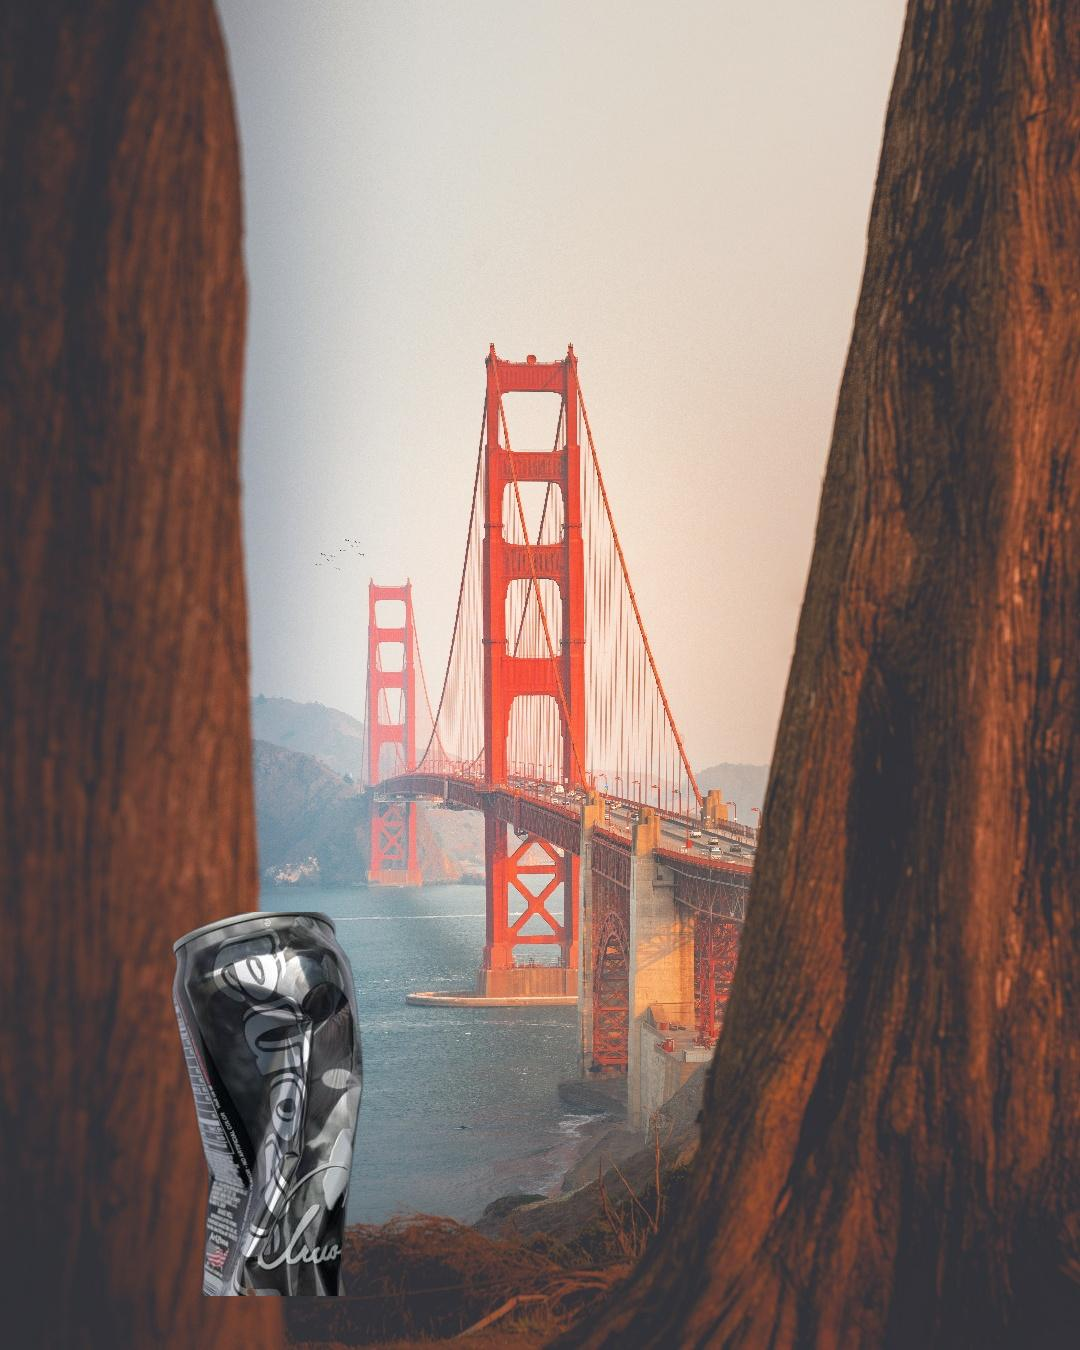metal-cans: (168, 912, 367, 1296)
